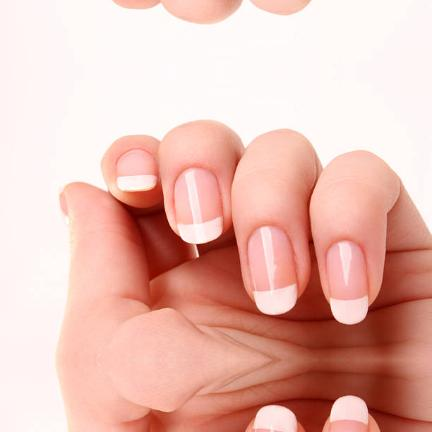Nail: (248, 226, 298, 315), (175, 168, 223, 244), (328, 241, 370, 325), (116, 149, 157, 192), (330, 395, 370, 432), (254, 405, 298, 432)
